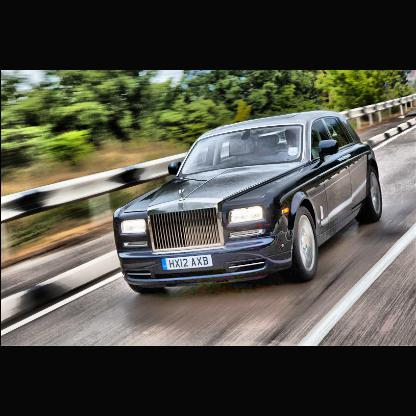Rolls-Royce Phantom Sedan 2012: (73, 106, 385, 301)
